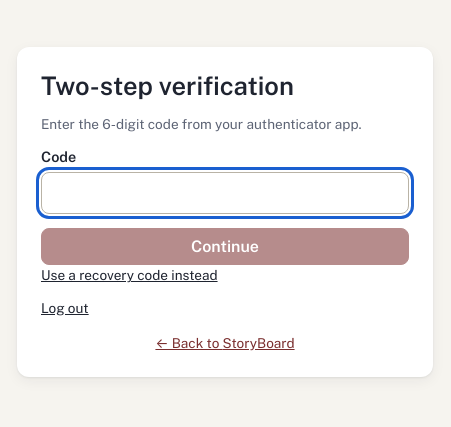
Scenario: admin guard and the step-up screen › shows the server message for a wrong code and stays on the prompt
This screenshot has width=451, height=427.
Type "000000" into the field labelled "Code" at x=225, y=193, box left=41, top=172, right=409, bottom=214
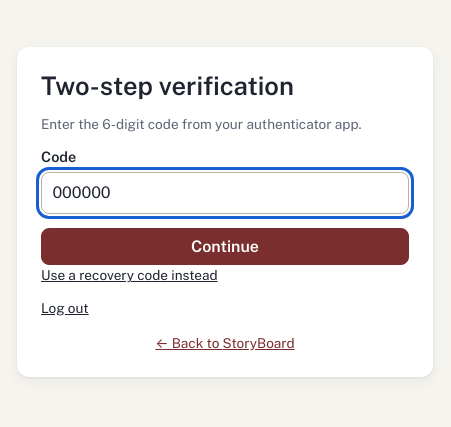
Click the button "Continue" at x=225, y=247, box left=41, top=228, right=409, bottom=265
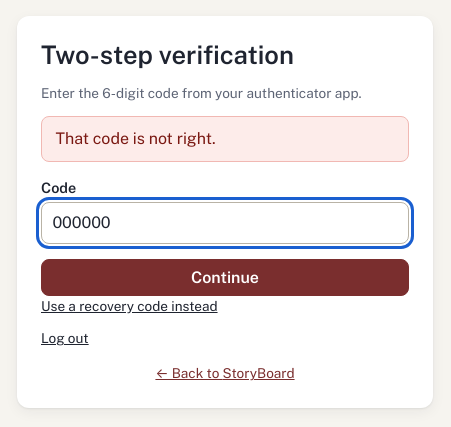
Expected: the message reads "That code is not right.", left=56, top=129, right=216, bottom=148
